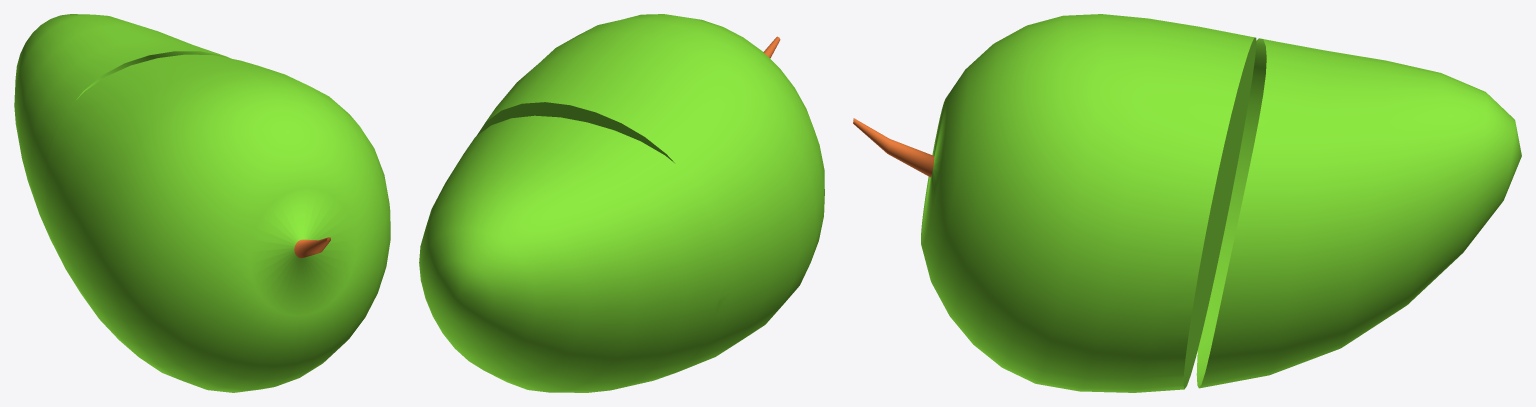
File: mango.fbx
3 views of the same model, side by side, from view 1: azimuth 30°, elevation 25°; view 2: azimuth 150°, elevation 25°; view 3: azimuth 270°, elevation 25° (orthographic). The views are drawn at different scales.
Visible parts, largest first — view 1: mango, mango.001; view 2: mango.001, mango; view 3: mango, mango.001.
Part boxes in pixels (bbox=[...]): mango: bbox=[43, 54, 390, 392]; mango.001: bbox=[14, 14, 230, 260]; mango.001: bbox=[419, 115, 732, 392]; mango: bbox=[476, 14, 824, 378]; mango: bbox=[853, 14, 1256, 392]; mango.001: bbox=[1196, 38, 1521, 388].
Bounding box in the file's own units: 200 × 203 × 361.
